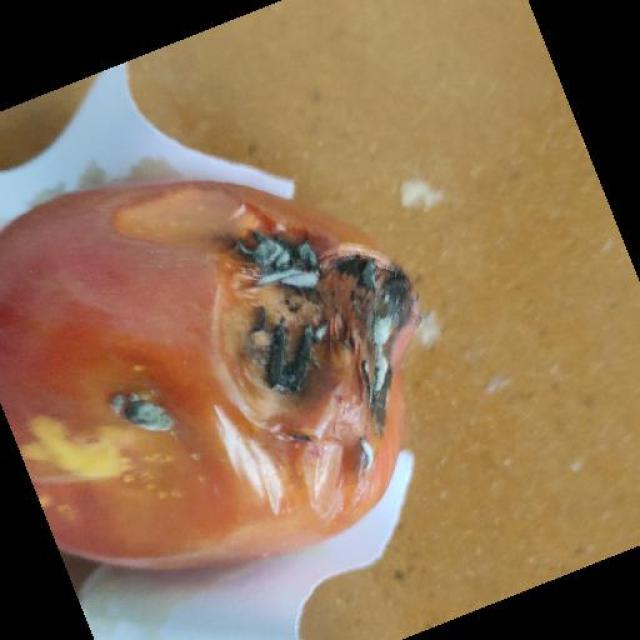Stale_tomato: (0, 176, 395, 558)
